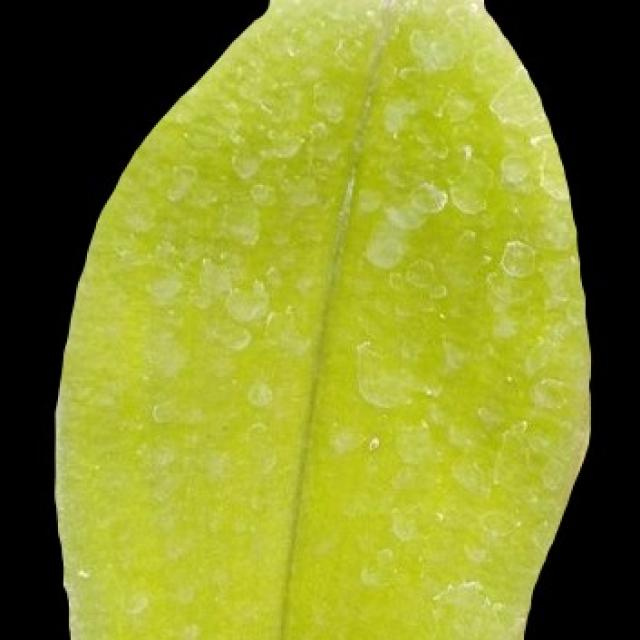mite: (361, 216, 406, 270), (497, 236, 535, 279), (406, 178, 448, 216), (448, 179, 488, 216), (163, 161, 196, 205), (497, 152, 531, 189), (227, 147, 261, 181), (366, 433, 381, 451)
spots: (51, 0, 595, 638)
